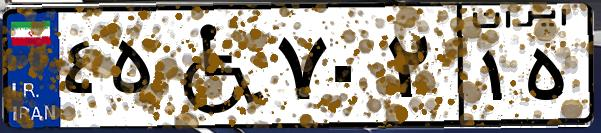0: (330, 28, 385, 110)
1: (475, 38, 525, 113)
2: (385, 28, 445, 110)
4: (57, 26, 110, 100)
5: (525, 38, 570, 115), (110, 28, 158, 98)
7: (270, 28, 330, 110)
ژ (معلولین و جانبازان): (158, 12, 270, 120)
